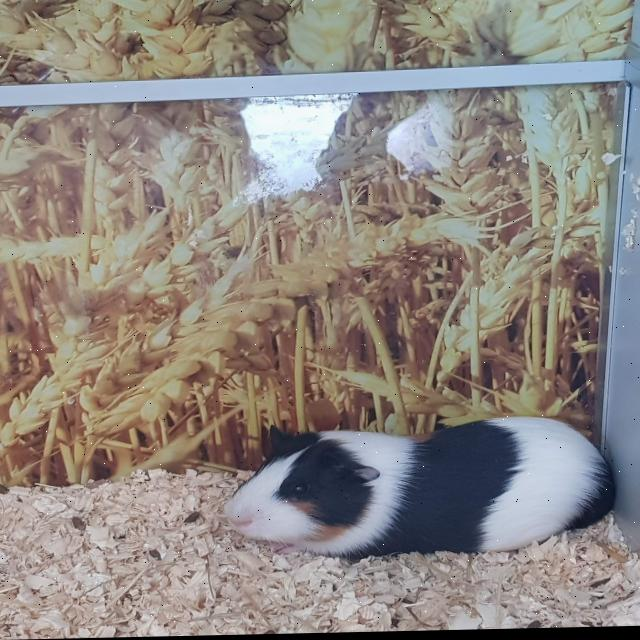guinea pig: (224, 415, 618, 574)
